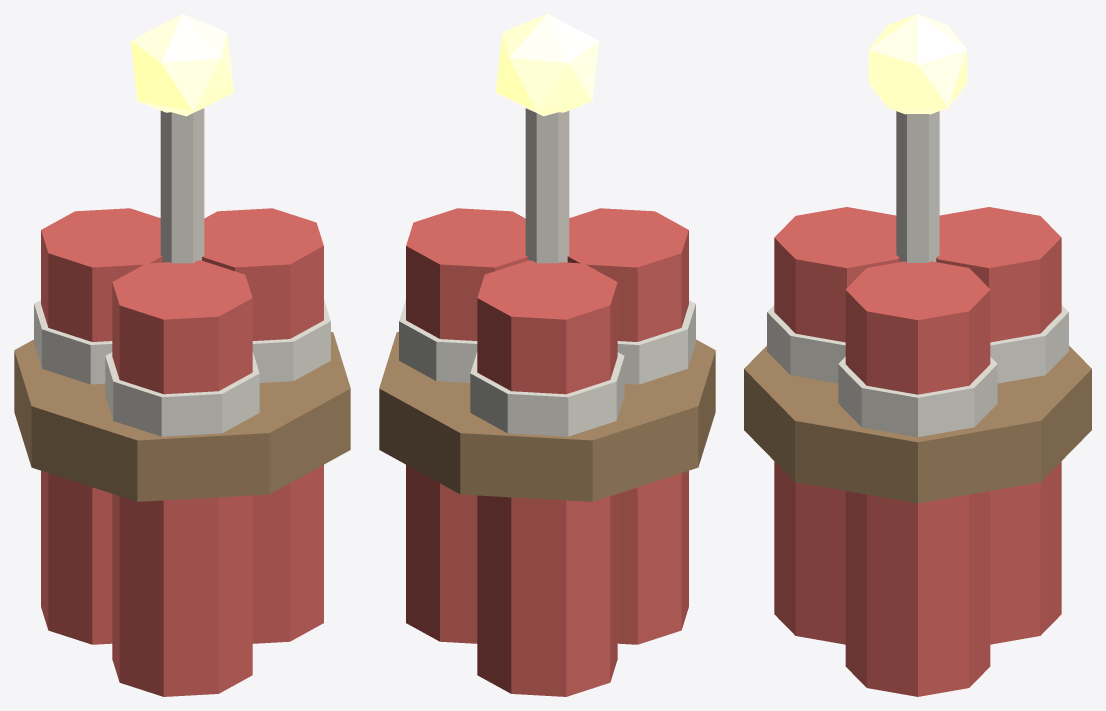
Rendered from bomb.glb.
The picture shows the model from 3 angles, left to right: view 1: azimuth 30°, elevation 25°; view 2: azimuth 150°, elevation 25°; view 3: azimuth 270°, elevation 25°; orthographic projection.
Parts seen in each view (by area): view 1: PangBombStick0; view 2: PangBombStick0; view 3: PangBombStick0.
Boxes of the visible parts, box(x1,y1,x2,y2) form: PangBombStick0: box(14, 14, 350, 696); PangBombStick0: box(379, 14, 715, 696); PangBombStick0: box(744, 14, 1091, 696).
Size of the model in its own units: 0.72 by 1.41 by 0.72.
